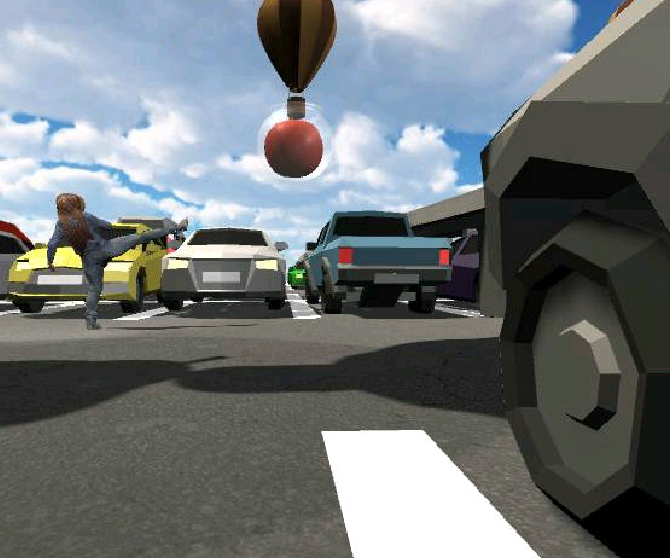turn_right: (46, 192, 189, 331)
